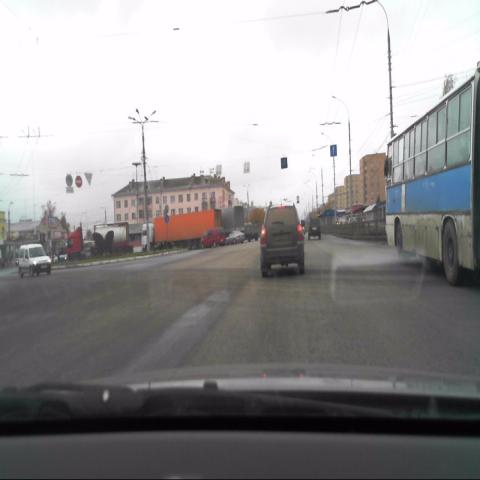5_15_2: (330, 144, 337, 156)
